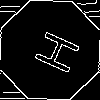H: (25, 25, 81, 76)
